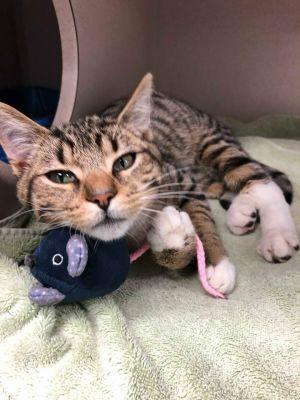bengal: (1, 71, 184, 247)
